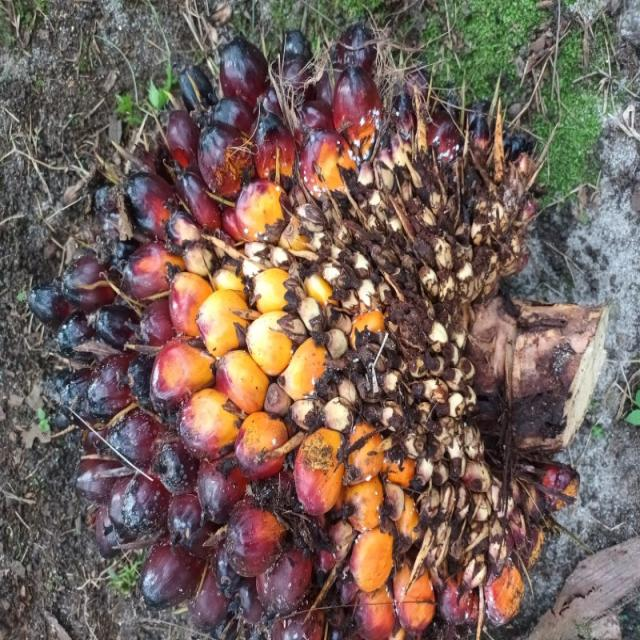fraksi 1: (8, 0, 450, 640)
